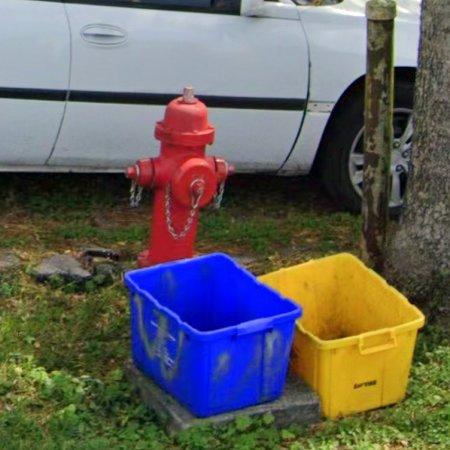a fire hydrant: (127, 88, 232, 267)
